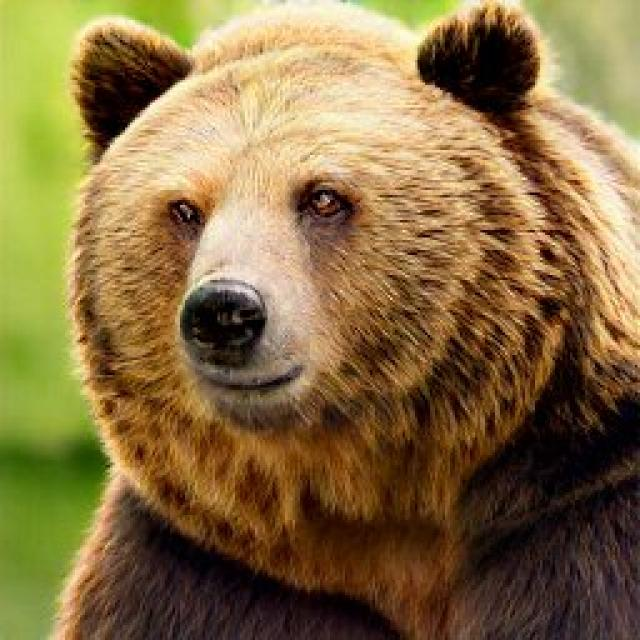not_pig: (25, 0, 637, 638)
